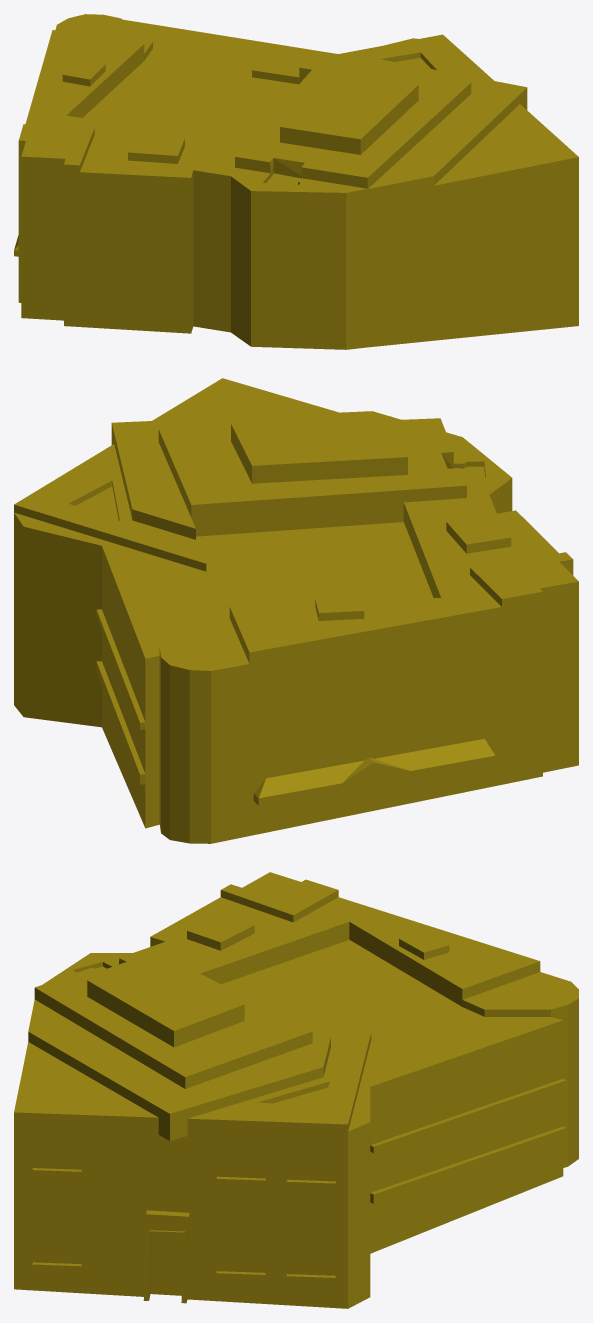
File: Lyceum Theatre.fbx
3 renders of one model, top to bottom at view 1: azimuth 30°, elevation 25°; view 2: azimuth 150°, elevation 25°; view 3: azimuth 270°, elevation 25°, orthographic. The views are drawn at different scales.
Visible parts, largest first — view 1: Lyceum Theatre; view 2: Lyceum Theatre; view 3: Lyceum Theatre.
Boxes of the visible parts, box(x1,y1,x2,y2) form: Lyceum Theatre: box(14, 14, 578, 349); Lyceum Theatre: box(14, 378, 578, 843); Lyceum Theatre: box(14, 872, 578, 1308).
Size of the model in its own units: 1984 by 880 by 2021.
